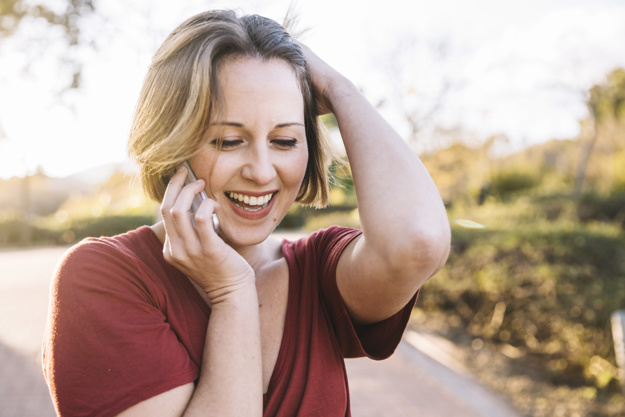phone: (163, 161, 225, 270)
talk: (150, 114, 311, 299)
